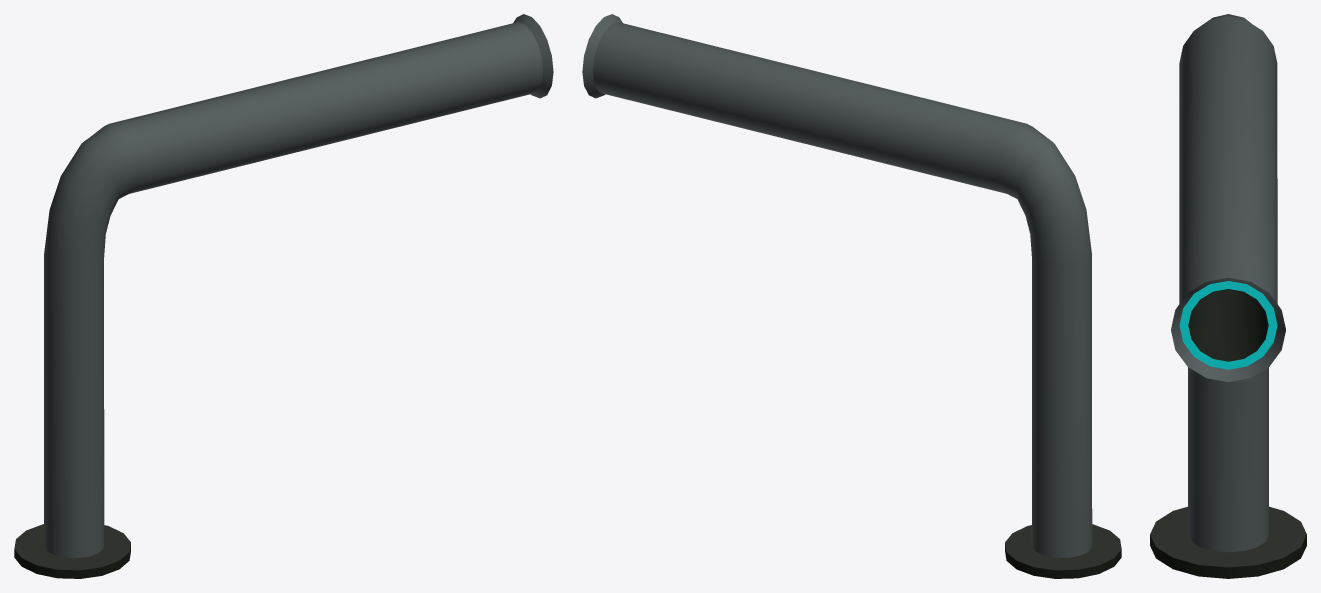
File: Pipe_B.glb
The picture shows the model from 3 angles, left to right: view 1: azimuth 30°, elevation 25°; view 2: azimuth 150°, elevation 25°; view 3: azimuth 270°, elevation 25°; orthographic projection. The views are drawn at different scales.
Visible parts, largest first — view 1: Pipe_B; view 2: Pipe_B; view 3: Pipe_B.
Boxes of the visible parts, <box> form: Pipe_B: <box>14,14,553,578</box>; Pipe_B: <box>582,14,1121,578</box>; Pipe_B: <box>1150,14,1306,578</box>.
Size of what is drawn, in the model's own units: 4.31 by 3.43 by 0.8608.
Materials: 1 (1 with a texture image).
